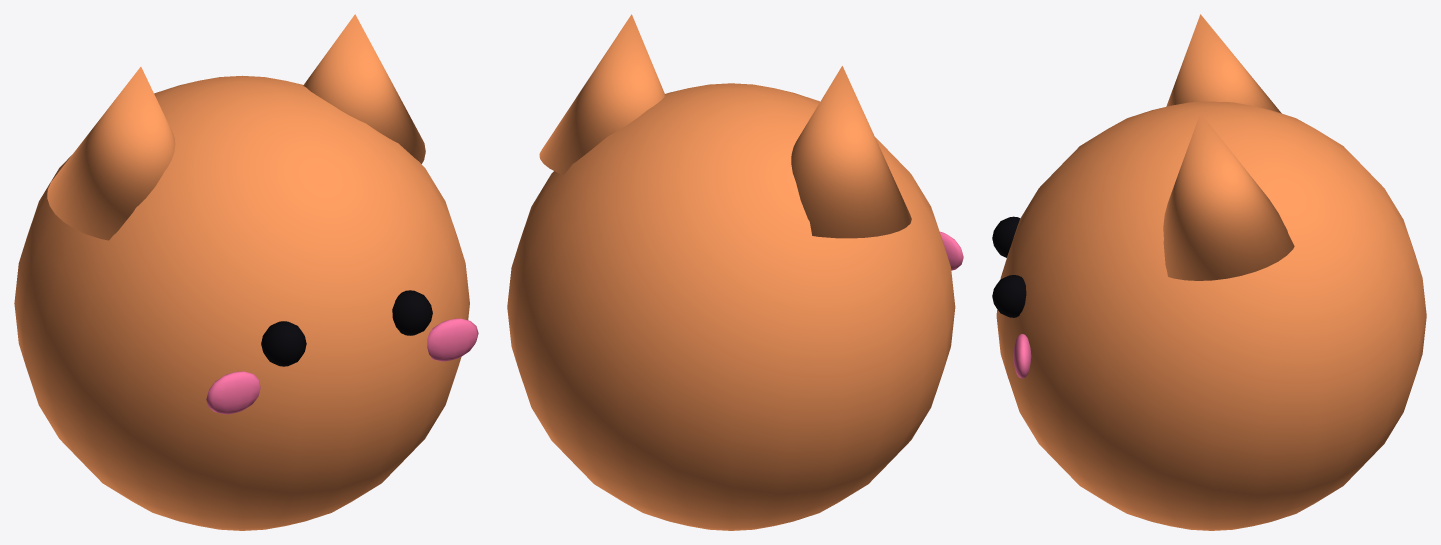
File: neko_cat.obj
3 views of the same model, side by side, from view 1: azimuth 30°, elevation 25°; view 2: azimuth 150°, elevation 25°; view 3: azimuth 270°, elevation 25° (orthographic). The views are drawn at different scales.
Parts seen in each view (by area): view 1: Character_neko_cat_Sphere.103; view 2: Character_neko_cat_Sphere.103; view 3: Character_neko_cat_Sphere.103.
Boxes of the visible parts, x1,y1,x2,y2 form: Character_neko_cat_Sphere.103: (14,14,478,530); Character_neko_cat_Sphere.103: (507,14,963,530); Character_neko_cat_Sphere.103: (992,14,1426,530).
Bounding box in the file's own units: 2 × 2.3 × 2.02.
